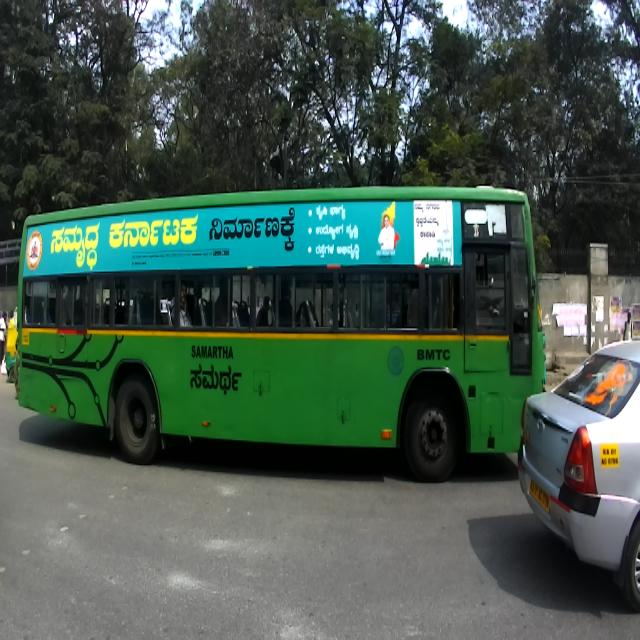bus ahead at: (15, 185, 518, 478)
car ahead at: (526, 336, 640, 598)
